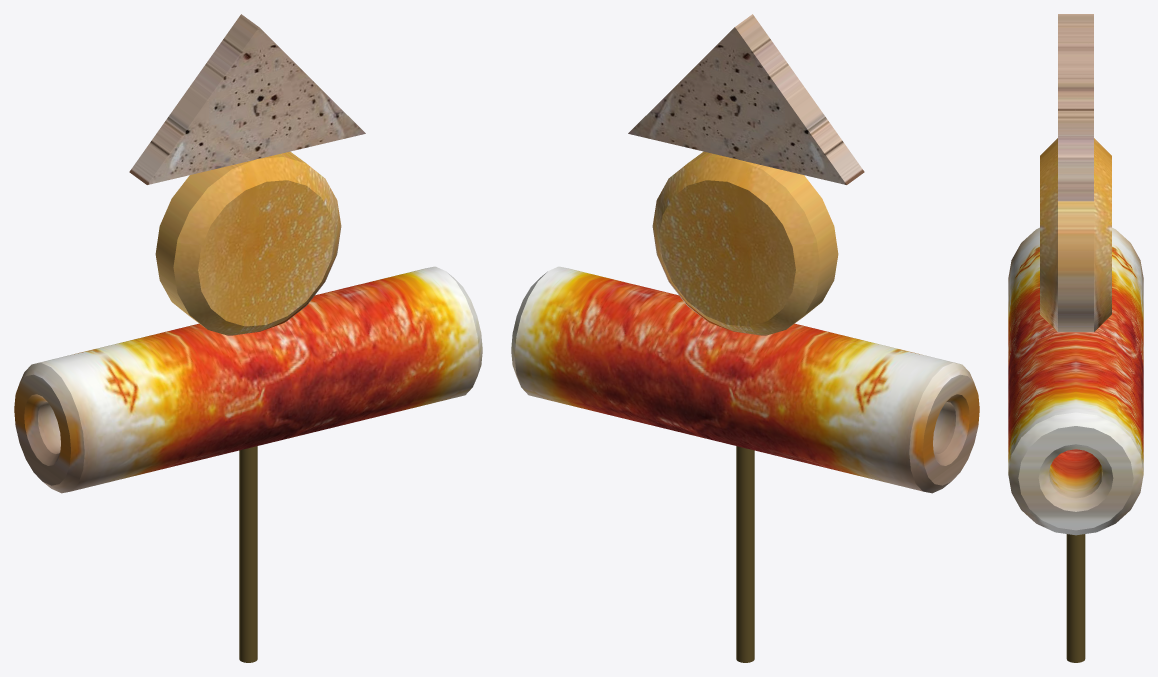
Rendered from Oden.fbx.
3 renders of one model, left to right at view 1: azimuth 30°, elevation 25°; view 2: azimuth 150°, elevation 25°; view 3: azimuth 270°, elevation 25°, orthographic.
Visible parts, largest first — view 1: pCylinder6; view 2: pCylinder6; view 3: pCylinder6.
Boxes of the visible parts, <box> form: pCylinder6: <box>14,14,482,662</box>; pCylinder6: <box>511,14,979,662</box>; pCylinder6: <box>1008,14,1143,662</box>.
Bounding box in the file's own units: 4.9 × 7.26 × 1.38.
Materials: 2 (1 with a texture image).
